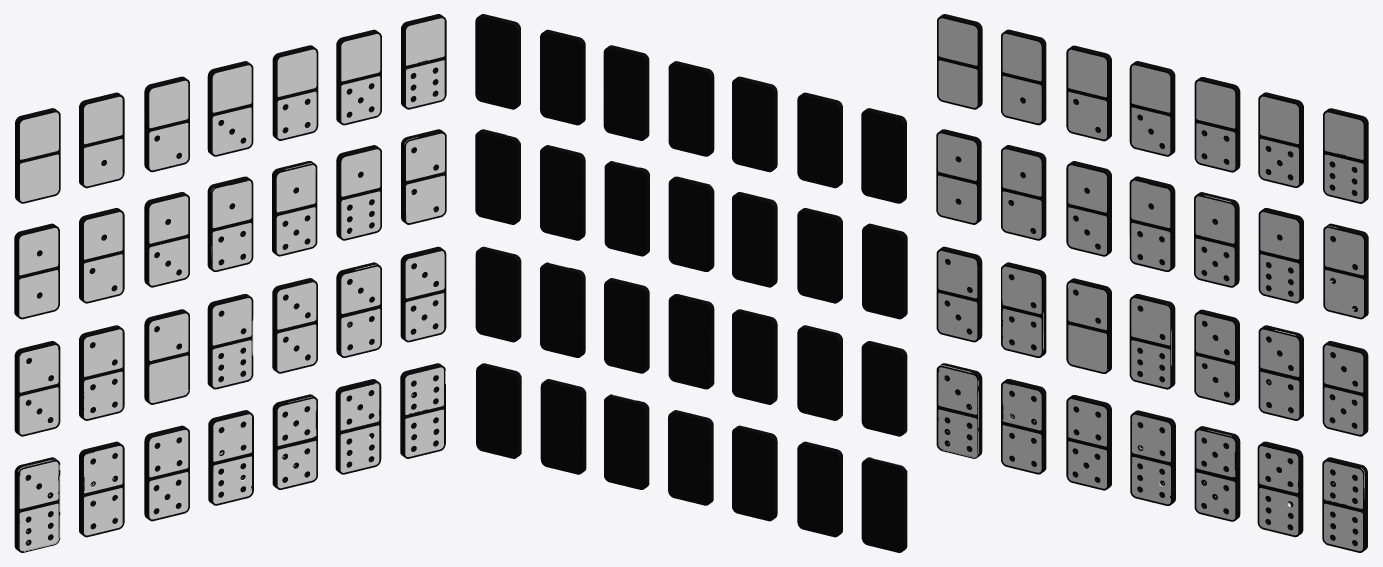
File: dominoes_3.glb
3 renders of one model, left to right at view 1: azimuth 30°, elevation 25°; view 2: azimuth 150°, elevation 25°; view 3: azimuth 330°, elevation 25°, orthographic.
Visible parts, largest first — view 1: 0_4_Dominos_0, 5_6_Dominos_0, 3_6_Dominos_0, 2_6_Dominos_0, 3_5_Dominos_0, 1_4_Dominos_0, 0_3_Dominos_0, 2_3_Dominos_0, 2_5_Dominos_0, 2_4_Dominos_0, 1_1_Dominos_0, 4_4_Dominos_0 (+16 smaller); view 2: 0_4_Dominos_0, 5_6_Dominos_0, 3_6_Dominos_0, 2_6_Dominos_0, 3_5_Dominos_0, 1_4_Dominos_0, 0_3_Dominos_0, 2_3_Dominos_0, 2_5_Dominos_0, 2_4_Dominos_0, 1_1_Dominos_0, 4_4_Dominos_0 (+16 smaller); view 3: 0_3_Dominos_0, 5_6_Dominos_0, 2_3_Dominos_0, 3_6_Dominos_0, 5_5_Dominos_0, 3_5_Dominos_0, 2_6_Dominos_0, 1_4_Dominos_0, 0_4_Dominos_0, 4_6_Dominos_0, 0_5_Dominos_0, 0_1_Dominos_0 (+16 smaller).
Boxes of the visible parts, x1,y1,x2,y2 form: 0_4_Dominos_0: (272,45,318,140); 5_6_Dominos_0: (335,379,381,474); 3_6_Dominos_0: (14,457,60,552); 2_6_Dominos_0: (207,294,253,389); 3_5_Dominos_0: (400,246,446,342); 1_4_Dominos_0: (207,176,253,271); 0_3_Dominos_0: (207,61,253,156); 2_3_Dominos_0: (14,341,60,436); 2_5_Dominos_0: (144,309,189,404); 2_4_Dominos_0: (79,325,124,420); 1_1_Dominos_0: (14,223,59,319); 4_4_Dominos_0: (79,441,124,537); 0_4_Dominos_0: (603,45,649,140); 5_6_Dominos_0: (540,379,586,474); 3_6_Dominos_0: (861,457,907,552); 2_6_Dominos_0: (668,294,714,389); 3_5_Dominos_0: (475,246,521,342); 1_4_Dominos_0: (668,176,714,271); 0_3_Dominos_0: (668,61,714,156); 2_3_Dominos_0: (861,341,907,436); 2_5_Dominos_0: (732,309,777,404); 2_4_Dominos_0: (797,325,842,420); 1_1_Dominos_0: (862,223,907,319); 4_4_Dominos_0: (797,441,842,537); 0_3_Dominos_0: (1129,61,1175,156); 5_6_Dominos_0: (1257,441,1303,537); 2_3_Dominos_0: (936,246,982,342); 3_6_Dominos_0: (936,363,982,458); 5_5_Dominos_0: (1194,426,1240,521); 3_5_Dominos_0: (1322,341,1368,436); 2_6_Dominos_0: (1129,294,1175,389); 1_4_Dominos_0: (1129,176,1175,271); 0_4_Dominos_0: (1194,77,1240,172); 4_6_Dominos_0: (1130,410,1175,505); 0_5_Dominos_0: (1258,92,1303,187); 0_1_Dominos_0: (1001,29,1046,125).
Bounding box in the file's own units: 29.44 × 28.49 × 0.4.
Materials: 1 (1 with a texture image).
